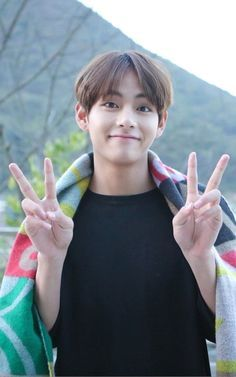people: (10, 50, 232, 377)
